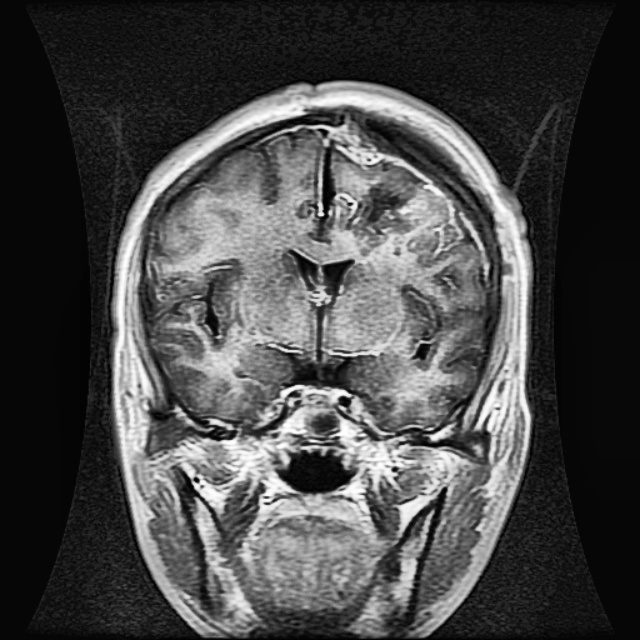Meningioma: (328, 159, 427, 239)
